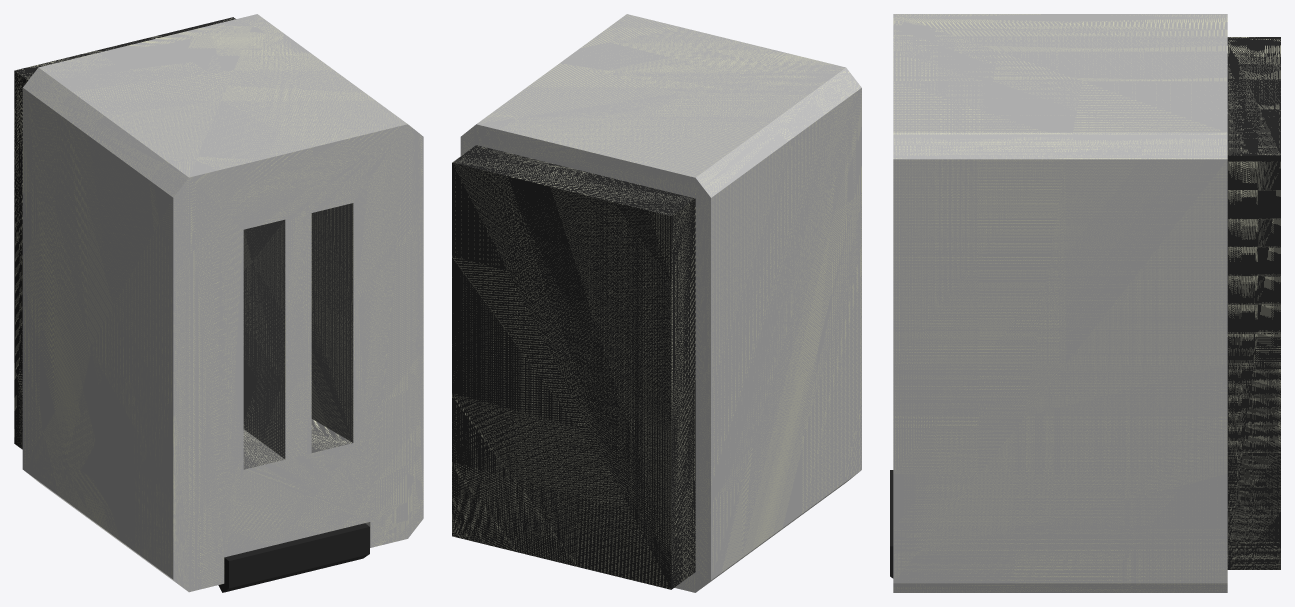
3 views of the same model, side by side, from view 1: azimuth 30°, elevation 25°; view 2: azimuth 150°, elevation 25°; view 3: azimuth 270°, elevation 25° (orthographic). The views are drawn at different scales.
Visible parts, largest first — view 1: countertop toaster rectangular; view 2: countertop toaster rectangular; view 3: countertop toaster rectangular.
Boxes of the visible parts, x1=… form: countertop toaster rectangular: x1=14, y1=14, x2=423, y2=592; countertop toaster rectangular: x1=452, y1=14, x2=861, y2=592; countertop toaster rectangular: x1=890, y1=14, x2=1280, y2=592.
Bounding box in the file's own units: 6 × 9.83 × 7.31.
